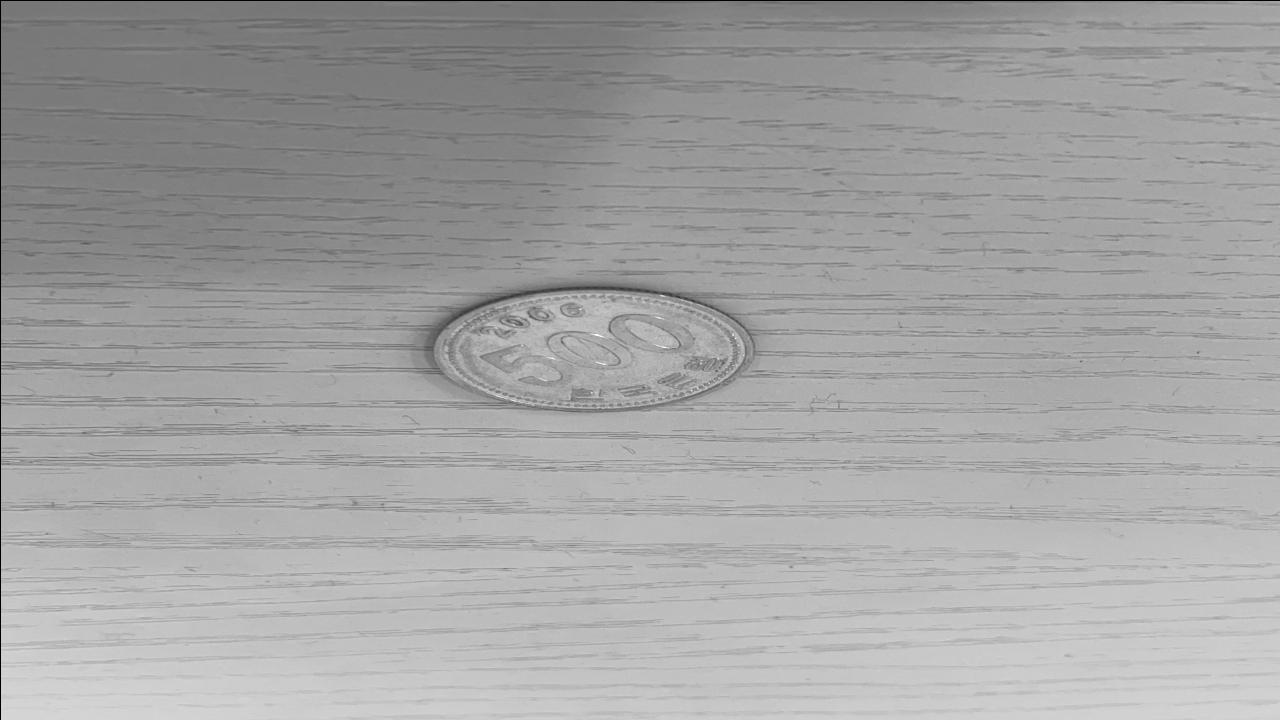coin: (427, 284, 759, 412)
